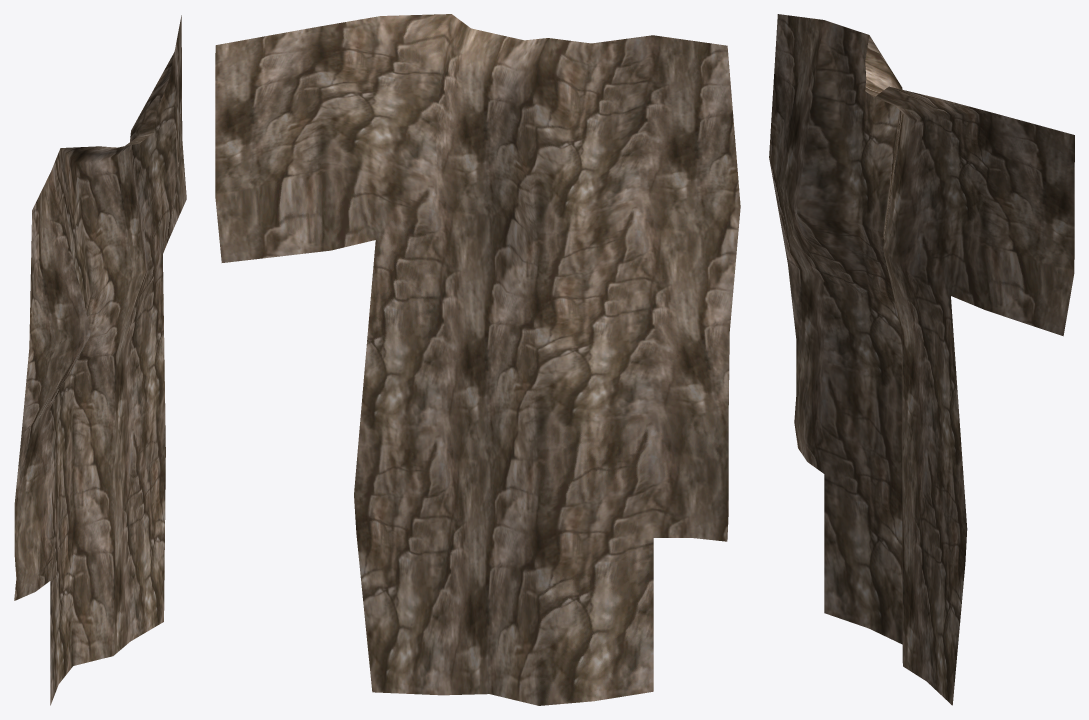
Rendered from OVERHILL_A_01_OBJECT42.fbx.
The picture shows the model from 3 angles, left to right: view 1: azimuth 30°, elevation 25°; view 2: azimuth 150°, elevation 25°; view 3: azimuth 270°, elevation 25°; orthographic projection. The views are drawn at different scales.
Parts seen in each view (by area): view 1: OVERHILL_A_01_OBJECT42; view 2: OVERHILL_A_01_OBJECT42; view 3: OVERHILL_A_01_OBJECT42.
Boxes of the visible parts, box(x1,y1,x2,y2) form: OVERHILL_A_01_OBJECT42: box(14, 15, 186, 705); OVERHILL_A_01_OBJECT42: box(215, 14, 740, 705); OVERHILL_A_01_OBJECT42: box(769, 14, 1074, 705).
Size of the model in its own units: 87682 by 157287 by 71442.
1 material, 1 textured.
